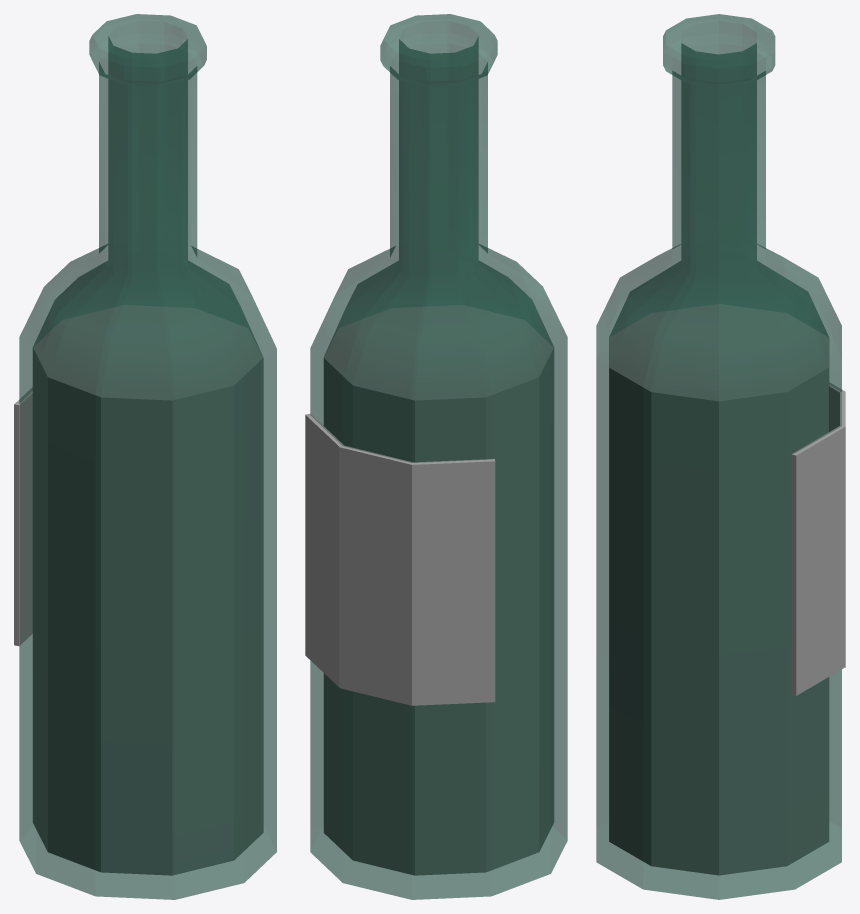
The model's file is SakeBottle.fbx.
The picture shows the model from 3 angles, left to right: view 1: azimuth 30°, elevation 25°; view 2: azimuth 150°, elevation 25°; view 3: azimuth 270°, elevation 25°; orthographic projection.
Parts seen in each view (by area): view 1: sakeBottle1, sakeLiquid, label2; view 2: sakeBottle1, sakeLiquid, label2, label, label1; view 3: sakeBottle1, sakeLiquid, label1.
Part boxes in pixels (x1,y1,x2,y2): sakeBottle1: [19, 14, 276, 899]; sakeLiquid: [33, 305, 262, 875]; label2: [14, 387, 32, 646]; sakeBottle1: [310, 14, 567, 899]; sakeLiquid: [324, 305, 553, 875]; label2: [411, 459, 495, 705]; label: [339, 446, 413, 705]; label1: [305, 413, 344, 686]; sakeBottle1: [596, 14, 841, 899]; sakeLiquid: [609, 304, 828, 875]; label1: [791, 425, 844, 695].
Bounding box in the file's own units: 1.85 × 6.39 × 1.79.
